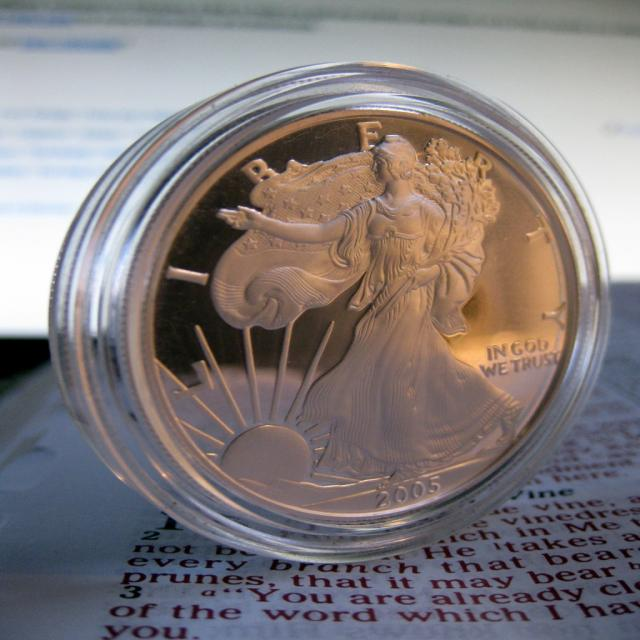Coin: (48, 60, 615, 563)
